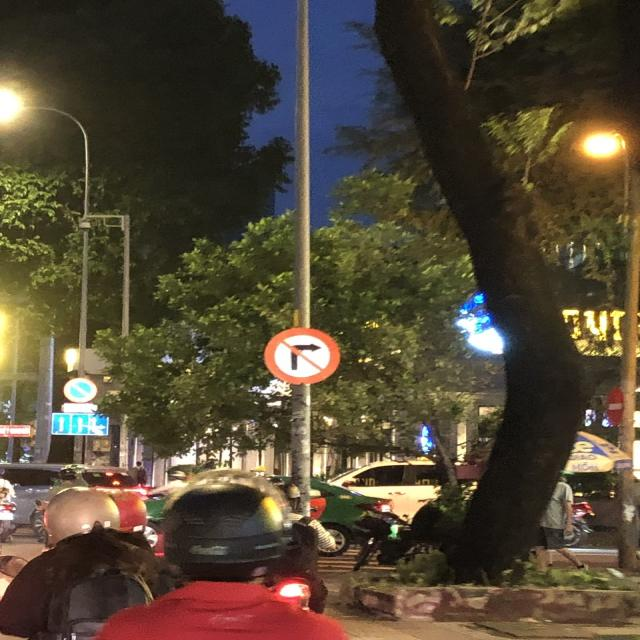Bien bao cam re phai: (260, 321, 346, 392)
